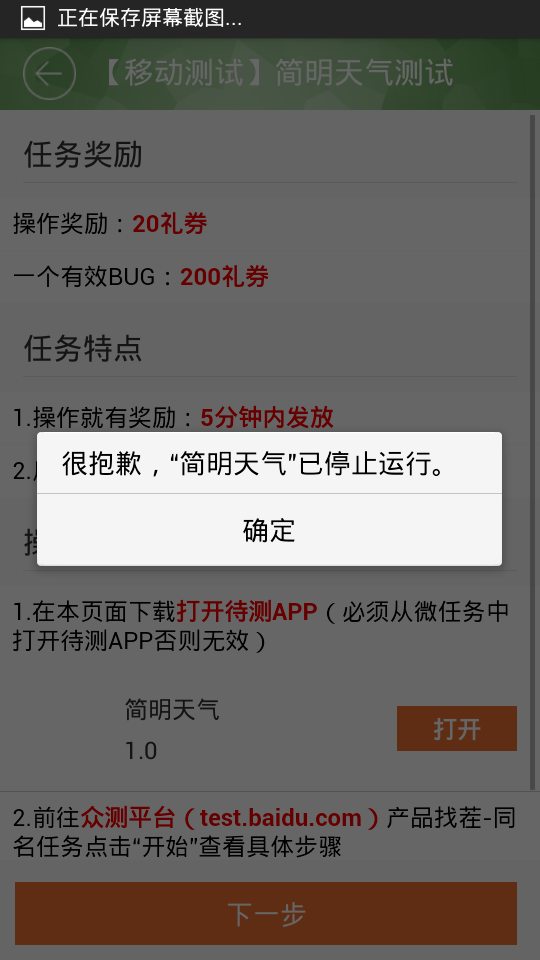alert: (31, 421, 504, 581)
button: (388, 697, 533, 760)
